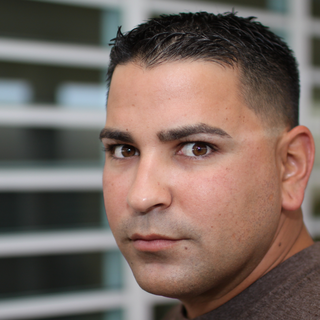eye: (168, 134, 222, 165), (101, 139, 142, 165)
